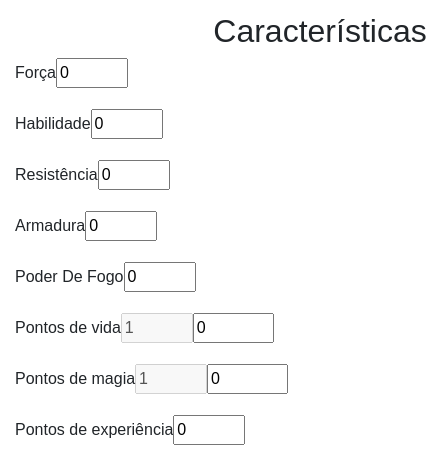
Test: Characteristics › derives life and magic points from constitution
Check: the number field labelled "Pontos de vida" holds "1", box x1=121 y1=313 x2=193 y2=343
Replace the text in the number field labelled "Resistência" with "3": (134, 175) x1=98 y1=160 x2=170 y2=190
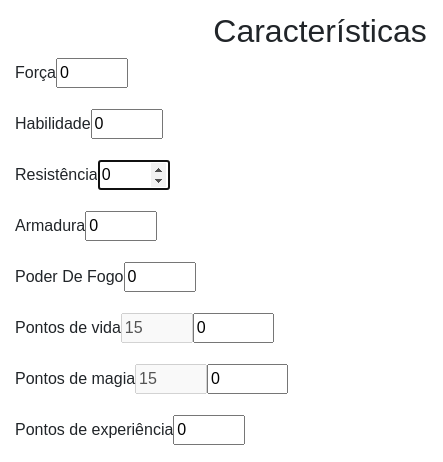
Check: the number field labelled "Pontos de vida" holds "15", box x1=121 y1=313 x2=193 y2=343
